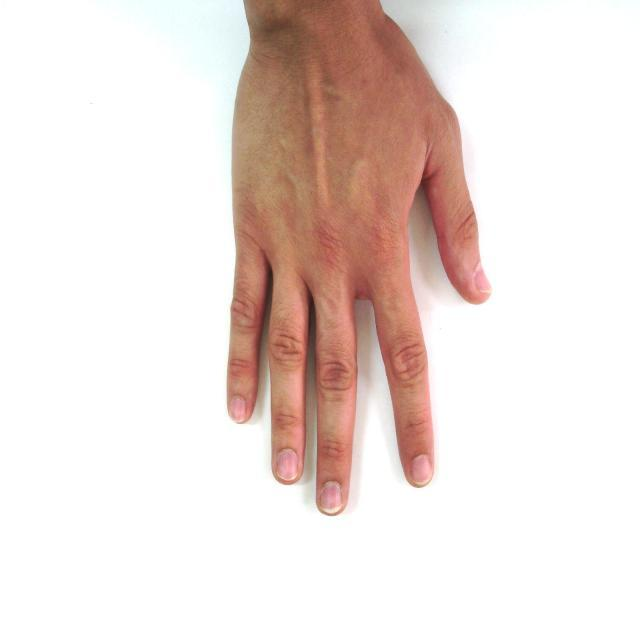Fingernail: (276, 449, 298, 481), (320, 481, 342, 512), (412, 455, 431, 484), (475, 267, 491, 292), (231, 397, 246, 422)
